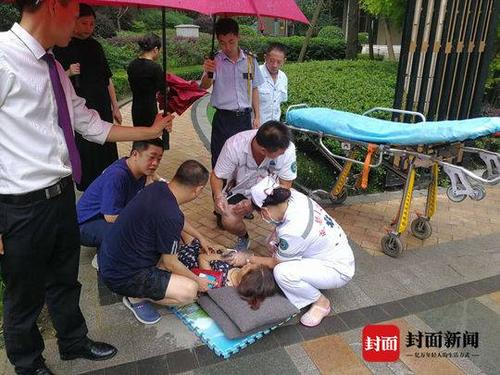fall: (179, 237, 278, 303)
